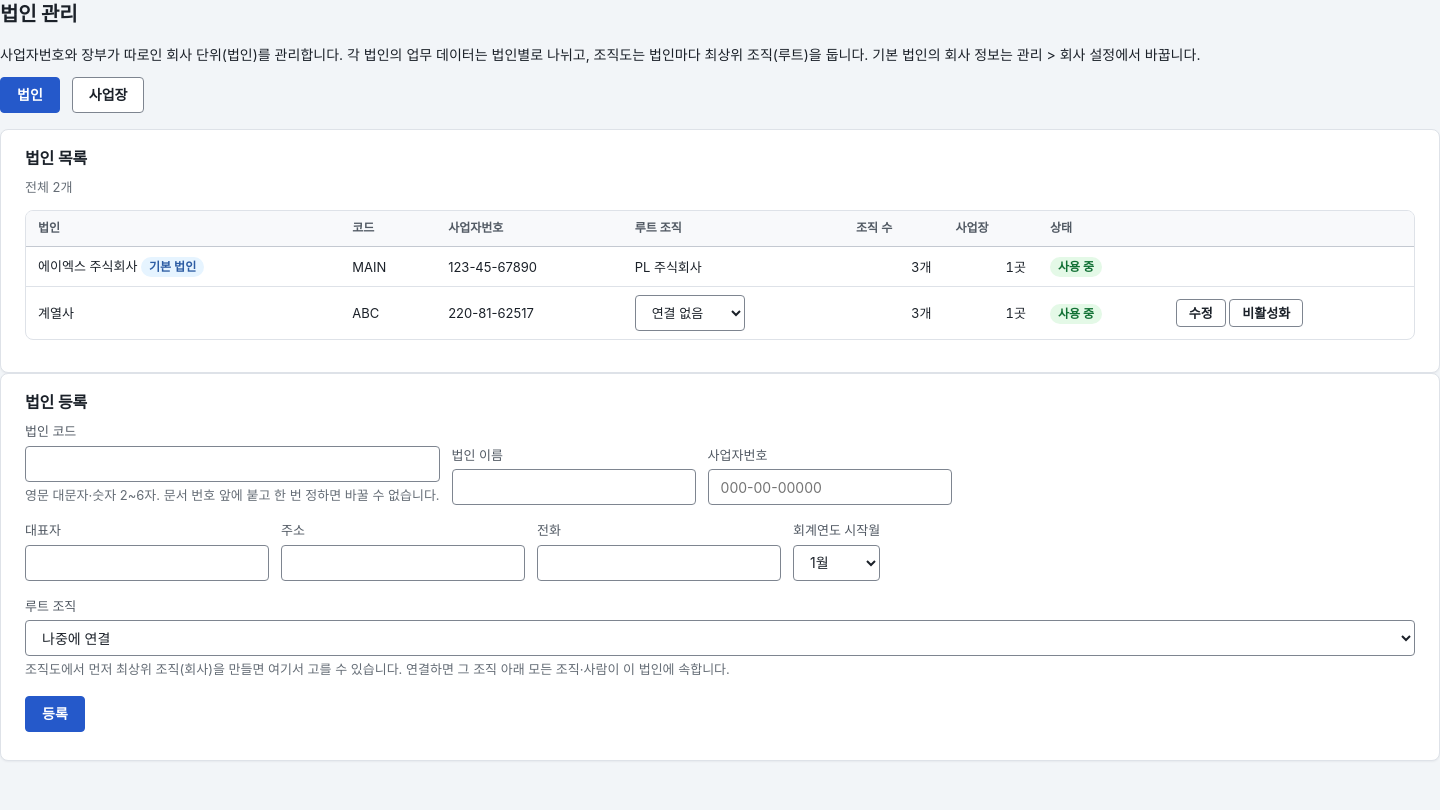
Scenario: 법인 관리 화면 › 법인을 등록하면 코드·이름·루트 조직을 보낸다
The width and height of the screenshot is (1440, 810).
Expected: the text "에이엑스 주식회사" is shown, [38, 258, 137, 274]
Type "xyz" into the field labelled "법인 코드" at (232, 464), box [25, 446, 440, 482]
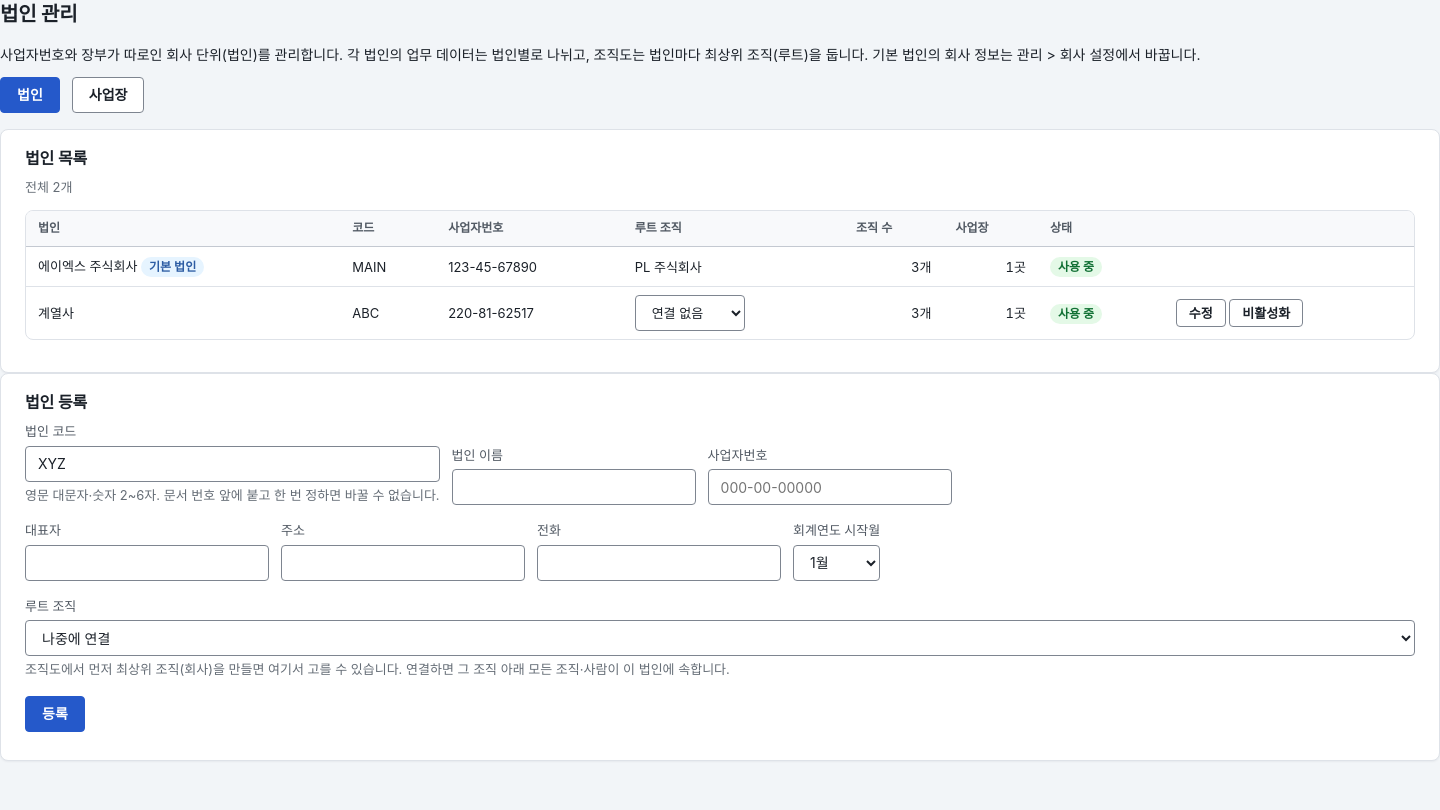
Type "또 다른 계열사" into the field labelled "법인 이름" at (574, 487), box [452, 469, 696, 505]
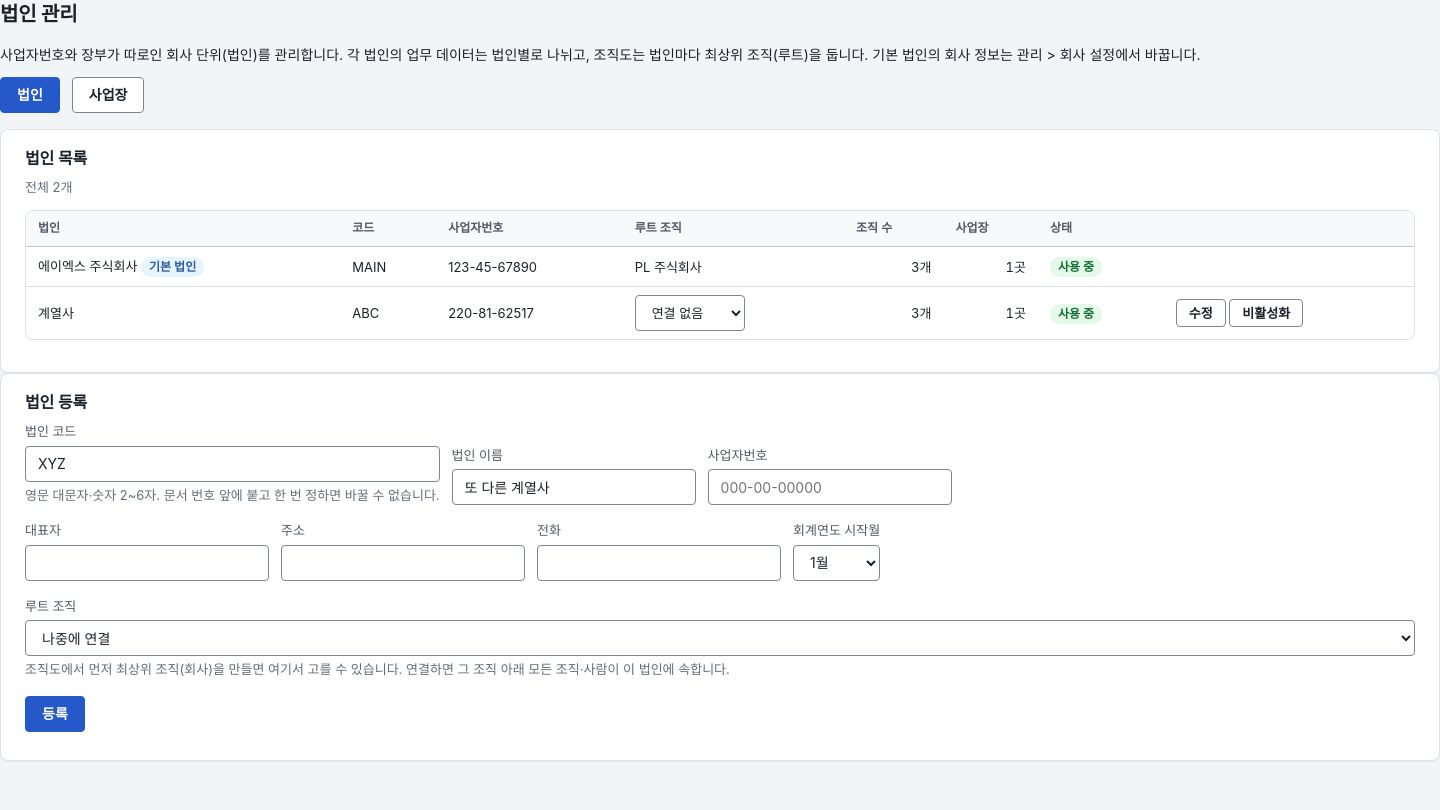
Select "계열사 본사" in the dropdown labelled "루트 조직" at (720, 638), box [25, 620, 1415, 656]
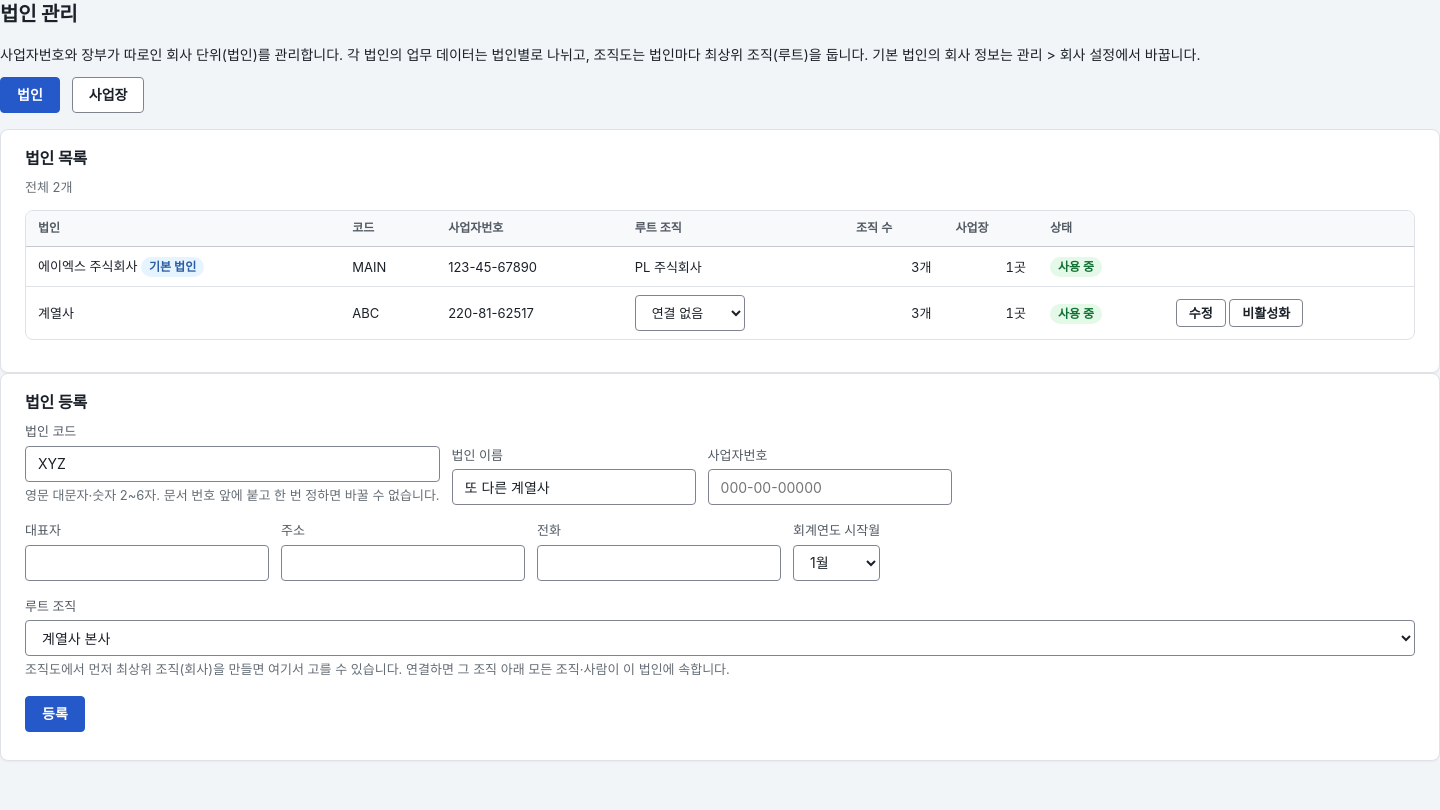
Click the button "등록" at (55, 714), box [25, 696, 85, 732]
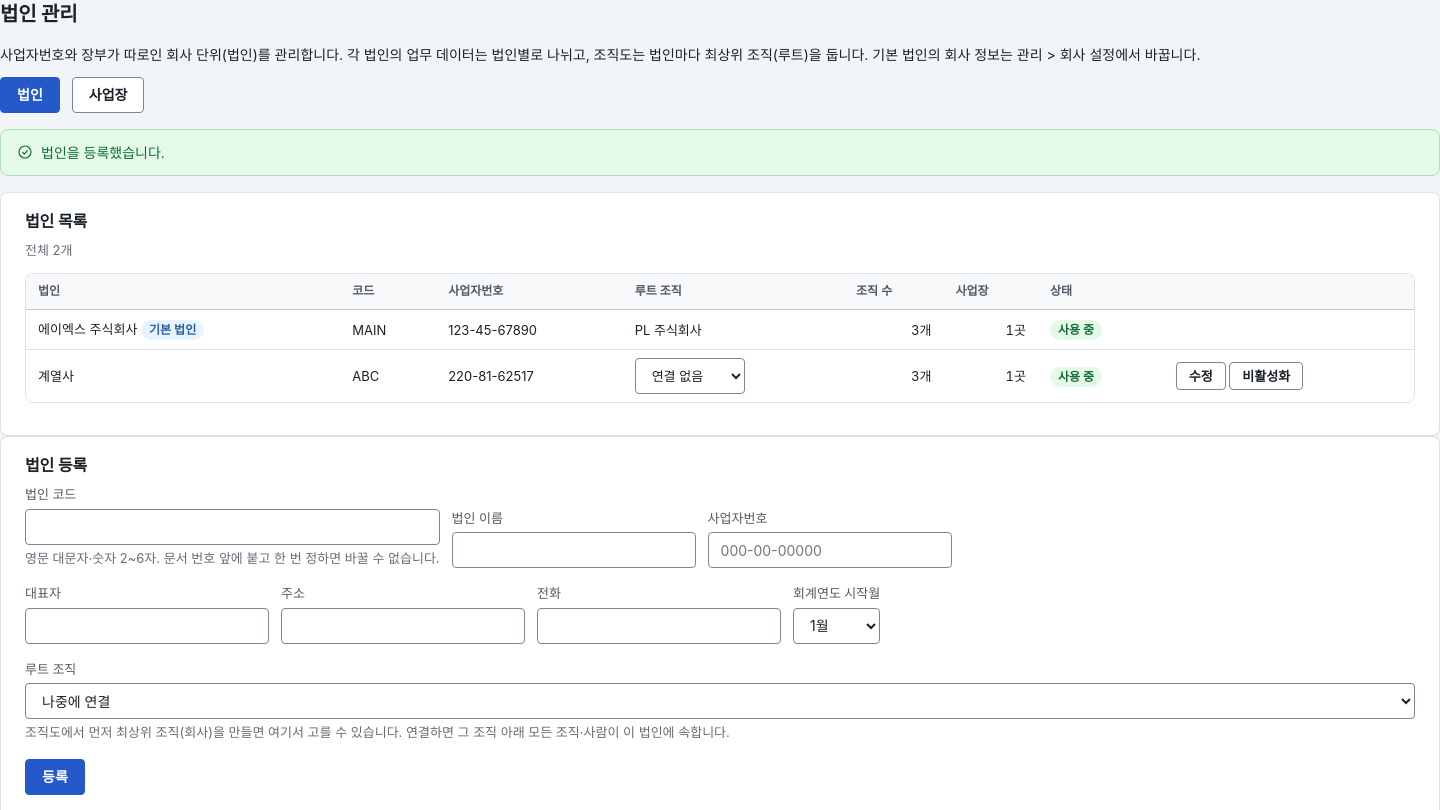
Now the text "법인을 등록했습니다." is shown, box [41, 142, 165, 163]
